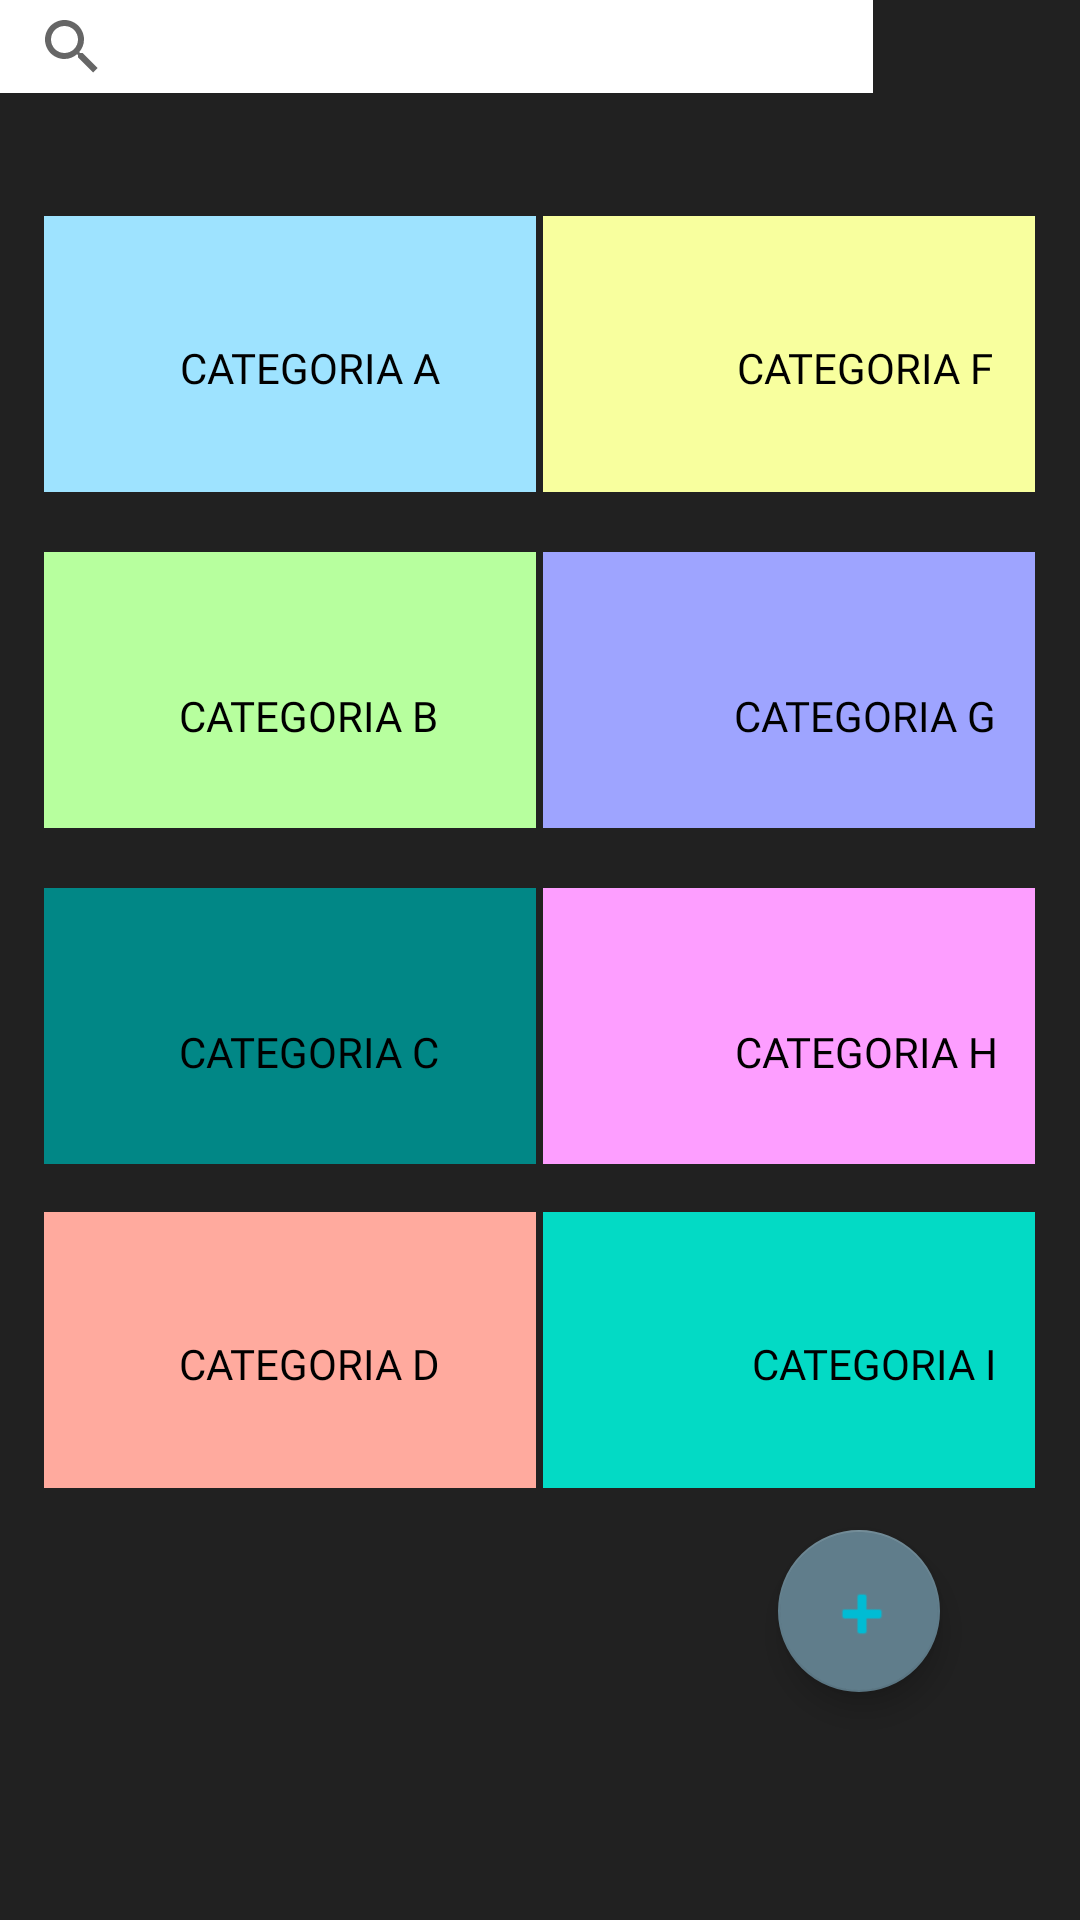

Where icons sit on this 1080px x 1920px app screen, as (x1, y1, x2, y2):
add: (778, 1530, 940, 1692)
